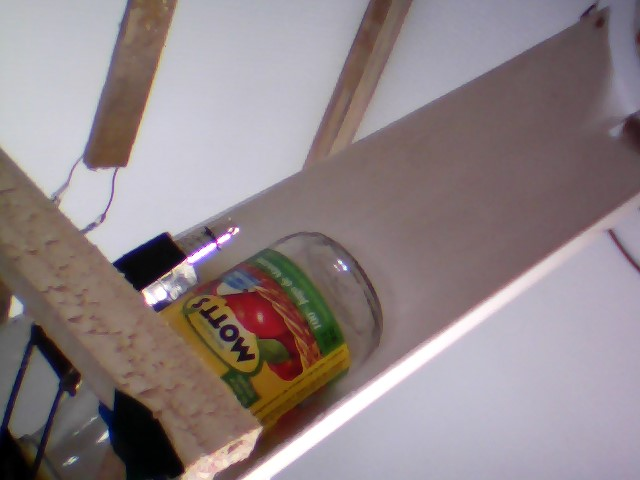vidrio: (176, 221, 391, 439)
